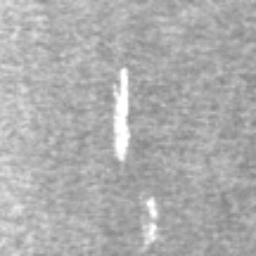White rust: (113, 66, 131, 162), (143, 197, 158, 245)
